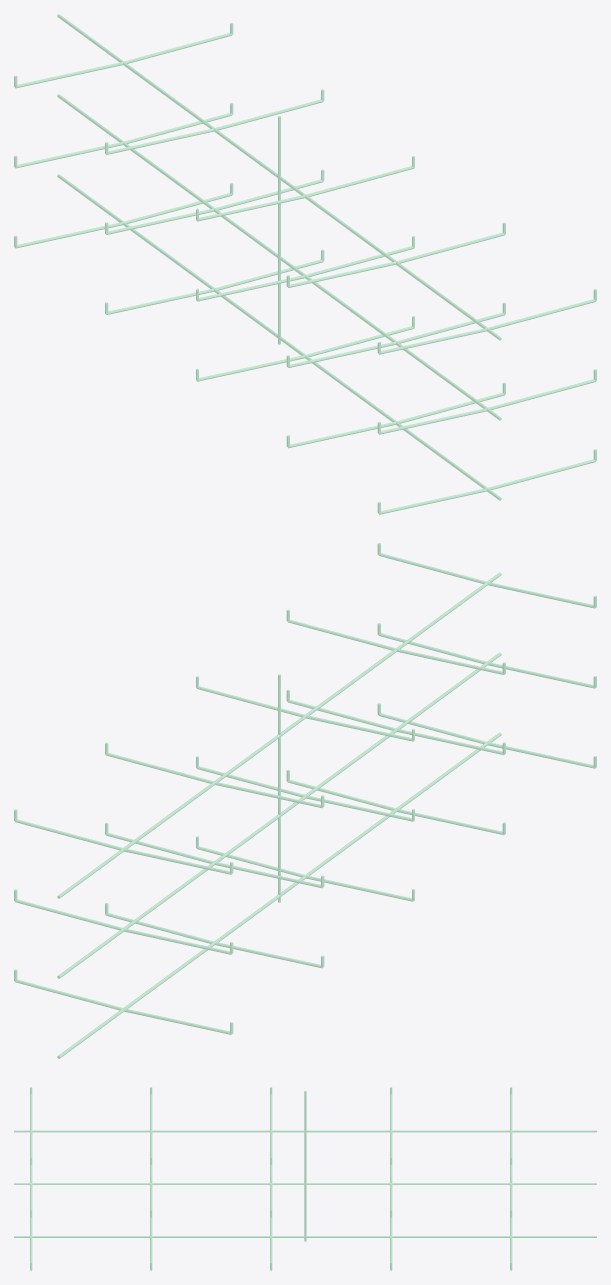
Rendered from component-drainage.glb.
3 views of the same model, one above another, from view 1: azimuth 30°, elevation 25°; view 2: azimuth 150°, elevation 25°; view 3: azimuth 270°, elevation 25° (orthographic). The views are drawn at different scales.
Visible parts, largest first — view 1: 排水｜示意層 3, 排水｜示意層 1, 排水｜示意層 2, 排水｜立管; view 2: 排水｜示意層 3, 排水｜示意層 1, 排水｜示意層 2; view 3: 排水｜示意層 3, 排水｜示意層 1, 排水｜示意層 2, 排水｜立管.
Part boxes in pixels (x1,y1,x2,y2): 排水｜示意層 3: (14, 14, 596, 354); 排水｜示意層 1: (14, 174, 596, 514); 排水｜示意層 2: (14, 94, 596, 434); 排水｜立管: (278, 116, 280, 344); 排水｜示意層 3: (14, 543, 596, 898); 排水｜示意層 1: (14, 703, 596, 1058); 排水｜示意層 2: (14, 623, 596, 978); 排水｜示意層 3: (14, 1087, 596, 1164); 排水｜示意層 1: (14, 1217, 596, 1270); 排水｜示意層 2: (14, 1164, 596, 1217); 排水｜立管: (304, 1090, 306, 1241).
Bounding box in the file's own units: 9.73 × 9.65 × 34.
